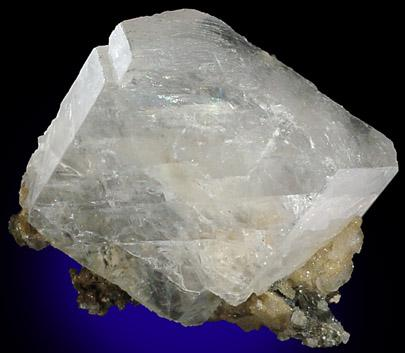calcite: (23, 10, 398, 326)
